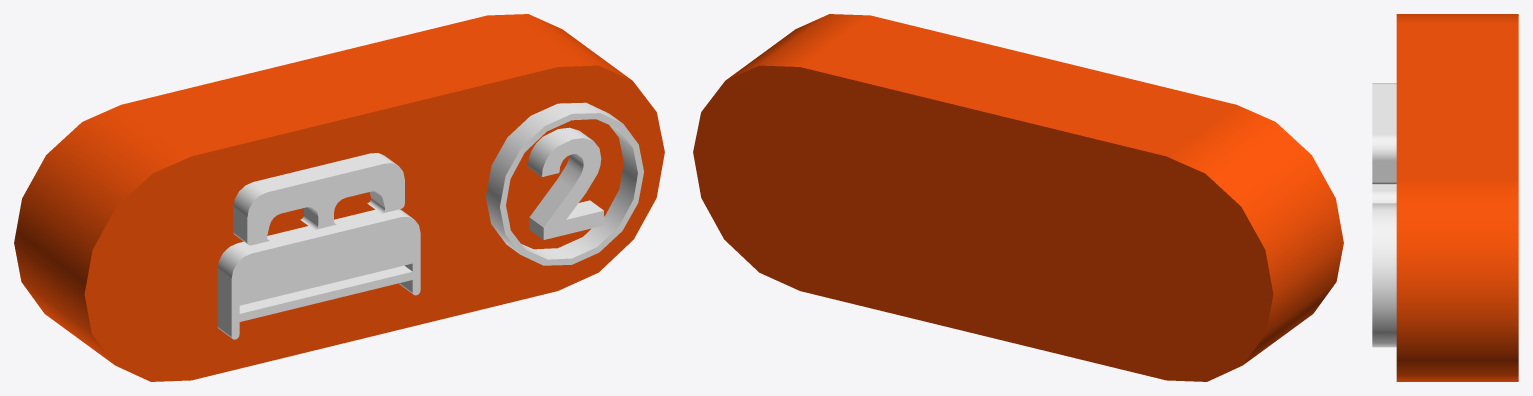
Rendered from Bed_2.fbx.
3 views of the same model, side by side, from view 1: azimuth 30°, elevation 25°; view 2: azimuth 150°, elevation 25°; view 3: azimuth 270°, elevation 25° (orthographic). The views are drawn at different scales.
Visible parts, largest first — view 1: Orange, Object_3, Object_1, Object_5, Object_6; view 2: Orange; view 3: Orange, Object_5, Object_1, Object_3.
Boxes of the visible parts, <box> form: Orange: <box>14,14,664,381</box>; Object_3: <box>217,209,420,339</box>; Object_1: <box>233,153,404,245</box>; Object_5: <box>485,102,643,265</box>; Object_6: <box>527,127,603,239</box>; Orange: <box>693,14,1343,381</box>; Orange: <box>1396,14,1518,381</box>; Object_5: <box>1372,203,1396,347</box>; Object_1: <box>1372,83,1396,184</box>; Object_3: <box>1372,184,1396,203</box>.
Bounding box in the file's own units: 4.75 × 1.2 × 1.75.
